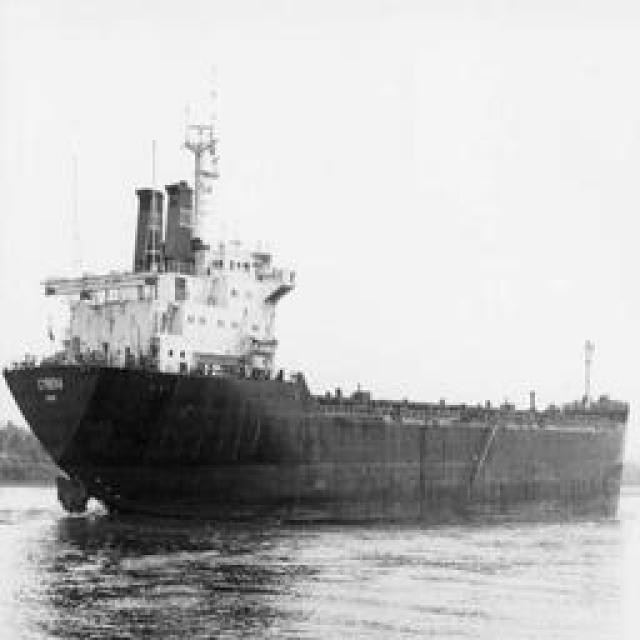Ship: (12, 340, 620, 525)
